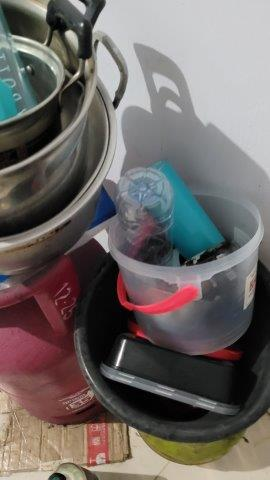botolplastik: (114, 167, 173, 299)
